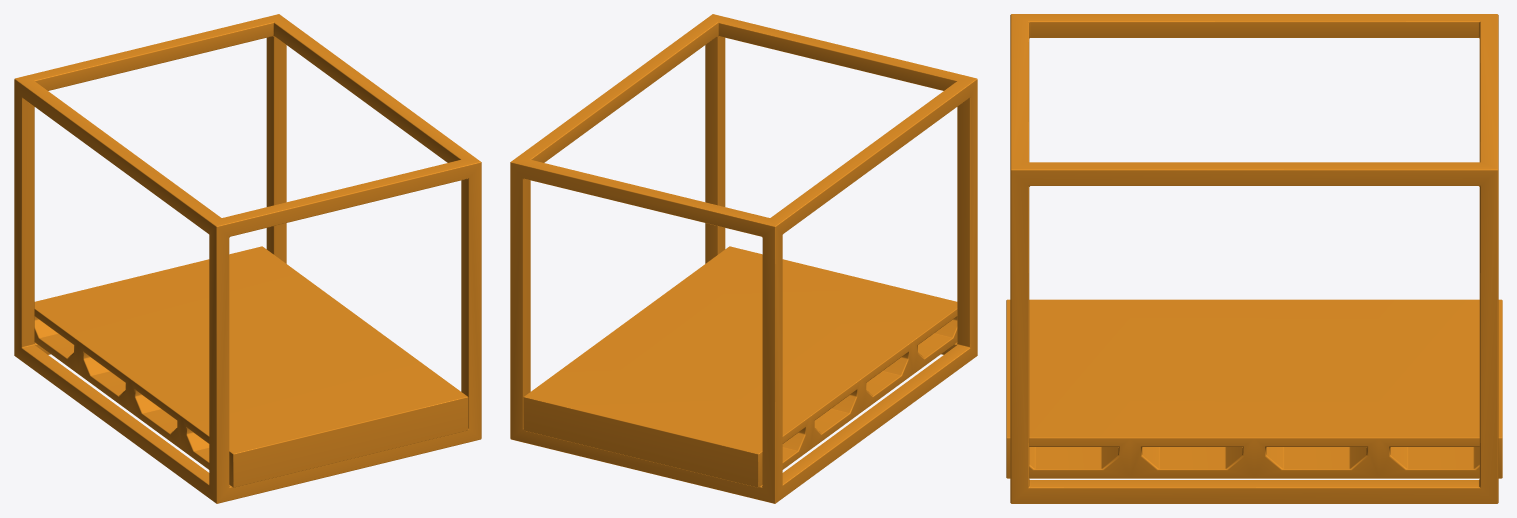
The model's file is SM_MetalConstruction01.fbx.
3 views of the same model, side by side, from view 1: azimuth 30°, elevation 25°; view 2: azimuth 150°, elevation 25°; view 3: azimuth 270°, elevation 25° (orthographic). The views are drawn at different scales.
Visible parts, largest first — view 1: SM_MetalConstruction01; view 2: SM_MetalConstruction01; view 3: SM_MetalConstruction01.
Boxes of the visible parts, <box> form: SM_MetalConstruction01: <box>14,14,481,503</box>; SM_MetalConstruction01: <box>510,14,977,503</box>; SM_MetalConstruction01: <box>1006,14,1502,503</box>.
Bounding box in the file's own units: 156 × 156 × 209.
